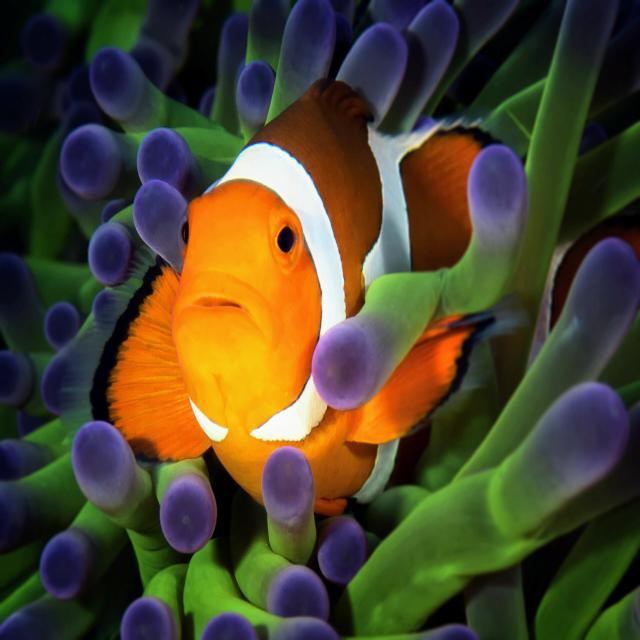ClownFish: (89, 74, 508, 517)
